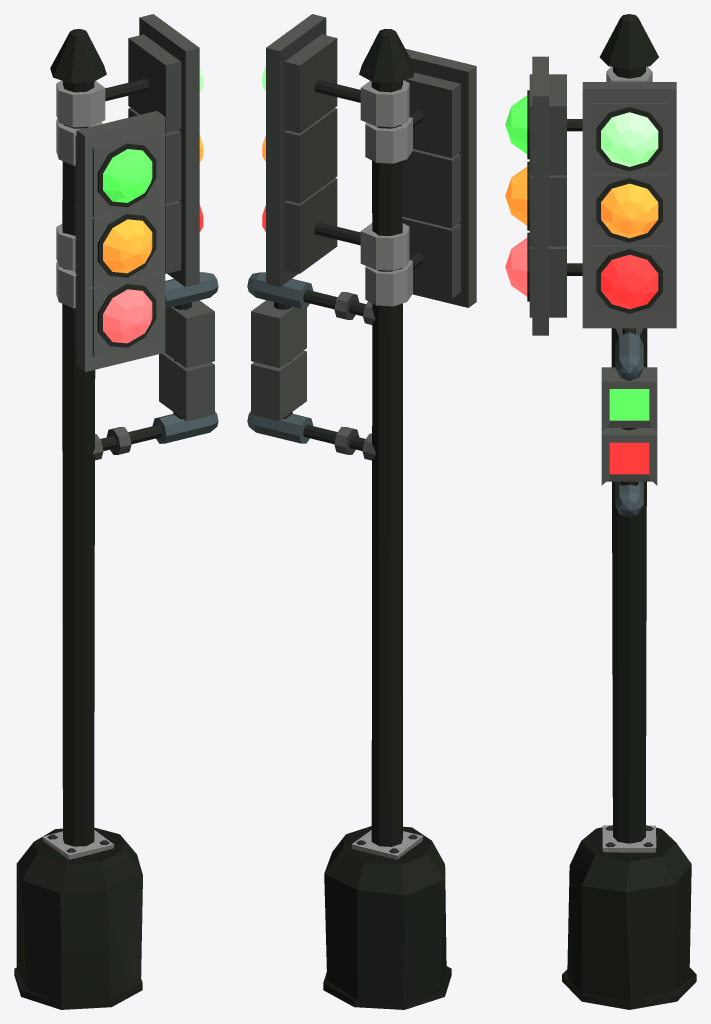
File: Traffic_Light_A.glb
3 views of the same model, side by side, from view 1: azimuth 30°, elevation 25°; view 2: azimuth 150°, elevation 25°; view 3: azimuth 270°, elevation 25° (orthographic).
Parts seen in each view (by area): view 1: TrafficLight_A; view 2: TrafficLight_A; view 3: TrafficLight_A.
Part boxes in pixels (box(x1,y1,x2,y2)): TrafficLight_A: box(14, 14, 218, 1009); TrafficLight_A: box(247, 14, 476, 1009); TrafficLight_A: box(505, 14, 696, 1009).
Size of what is drawn, in the model's own units: 1.05 by 4.87 by 0.8752.
1 material, 1 textured.
